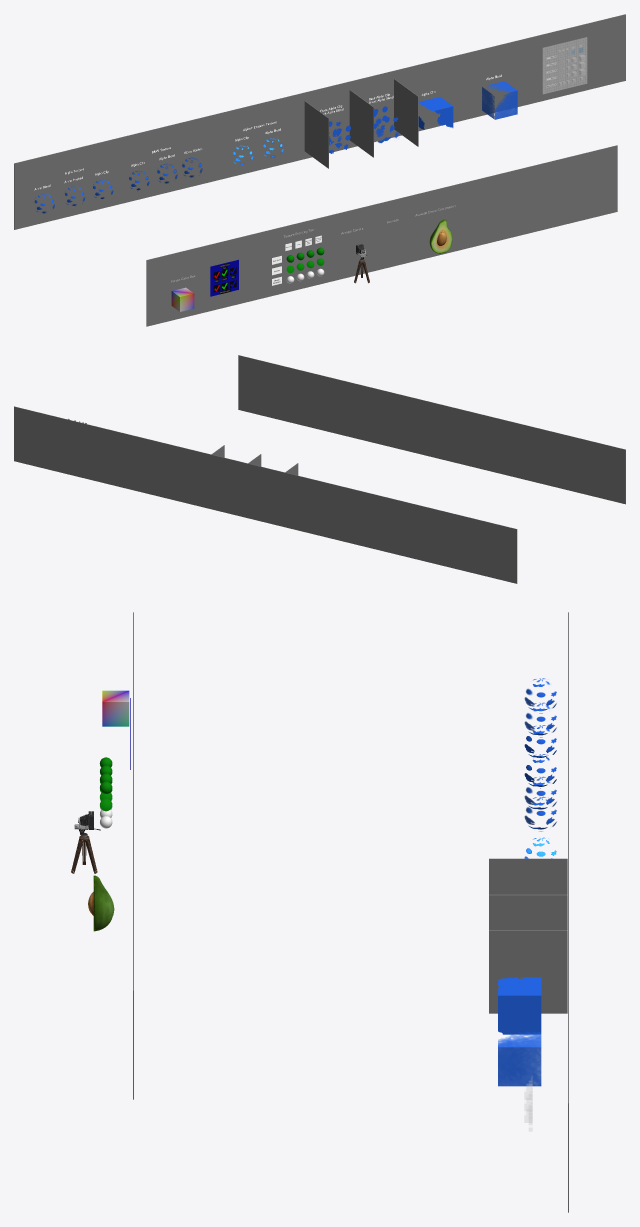
File: SampleScene_02.glb
3 views of the same model, one above another, from view 1: azimuth 30°, elevation 25°; view 2: azimuth 150°, elevation 25°; view 3: azimuth 270°, elevation 25° (orthographic). The views are drawn at different scales.
Parts seen in each view (by area): view 1: Cube.005, Cube.031, MeterGrid, Cube.025, Cube.027, Cube.026, Cube.029, VertexColorTest, Cube.028, Avocado.001, Cube.032; view 2: Cube.005, Cube.031; view 3: Cube.027, Cube.025, Cube.026, Cube.028, Cube.029, Cube.032, Avocado.001.
Boxes of the visible parts, left/top/right/bottom form: Cube.005: left=14, top=14, right=625, bottom=229; Cube.031: left=146, top=145, right=617, bottom=326; MeterGrid: left=542, top=37, right=587, bottom=94; Cube.025: left=304, top=101, right=328, bottom=168; Cube.027: left=394, top=79, right=418, bottom=146; Cube.026: left=349, top=90, right=373, bottom=157; Cube.029: left=482, top=81, right=517, bottom=119; VertexColorTest: left=210, top=259, right=238, bottom=296; Cube.028: left=418, top=97, right=453, bottom=129; Avocado.001: left=429, top=219, right=452, bottom=253; Cube.032: left=171, top=287, right=194, bottom=311; Cube.005: left=14, top=406, right=517, bottom=583; Cube.031: left=238, top=355, right=625, bottom=504; Cube.027: left=489, top=930, right=567, bottom=1013; Cube.025: left=489, top=858, right=567, bottom=894; Cube.026: left=489, top=894, right=567, bottom=930; Cube.028: left=498, top=977, right=541, bottom=1034; Cube.029: left=498, top=1032, right=541, bottom=1086; Cube.032: left=102, top=690, right=129, bottom=726; Avocado.001: left=88, top=875, right=114, bottom=931.
Size of the model in its own units: 42.8 by 4.44 by 18.34.
Materials: 48 (23 with a texture image).
